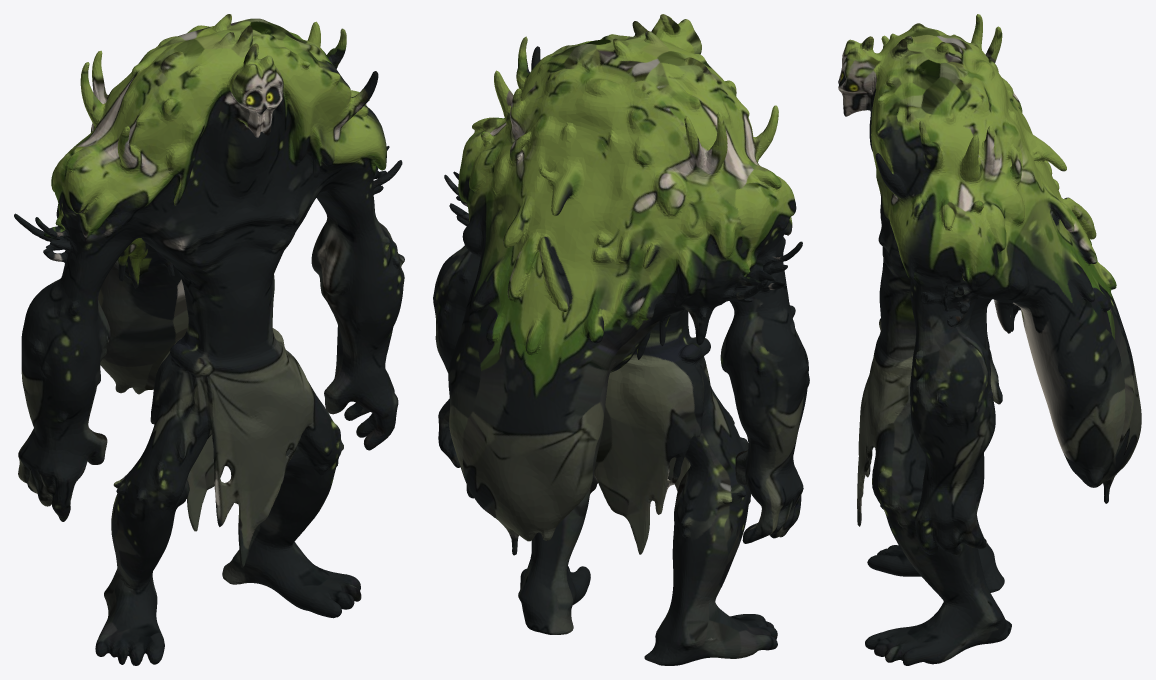
The model's file is terror del pantano.glb.
3 views of the same model, side by side, from view 1: azimuth 30°, elevation 25°; view 2: azimuth 150°, elevation 25°; view 3: azimuth 270°, elevation 25° (orthographic). The views are drawn at different scales.
Parts seen in each view (by area): view 1: world; view 2: world; view 3: world.
Part boxes in pixels (left/top/right/bottom): world: left=14, top=14, right=404, bottom=665; world: left=433, top=14, right=809, bottom=665; world: left=838, top=14, right=1141, bottom=665.
Size of the model in its own units: 1.28 by 1.99 by 0.9391.
Materials: 1 (1 with a texture image).
